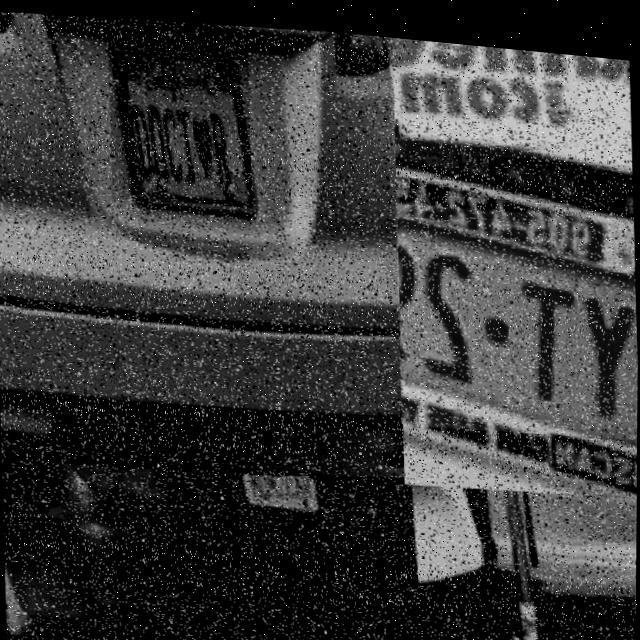LicensePlate: (394, 187, 639, 434), (387, 29, 632, 160), (106, 25, 253, 206), (236, 469, 312, 496)
